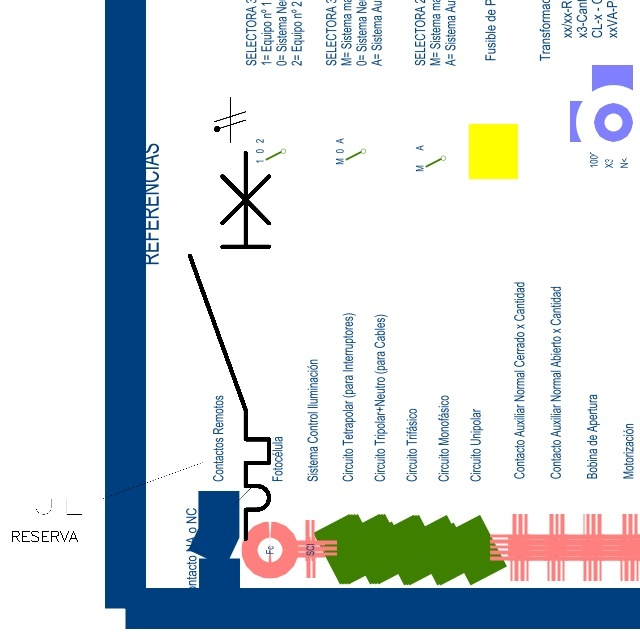interruptor_termomagnetico: (180, 142, 279, 548), (10, 456, 277, 521)
